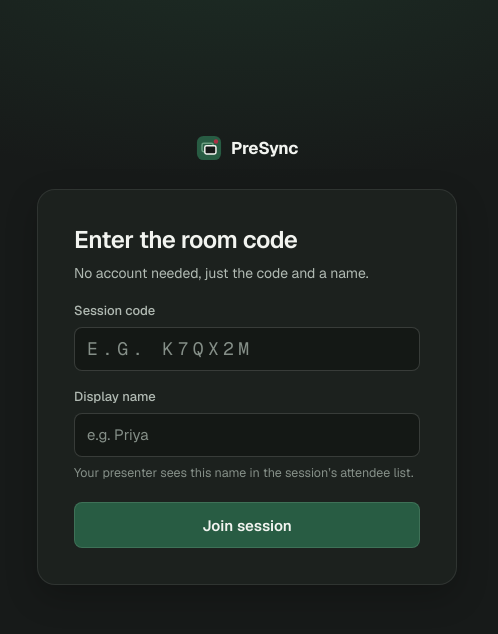
Scenario: ViewerJoinPage › shows the error when the join fails
The width and height of the screenshot is (498, 634).
Type "ABCD" into the field with placeholder "e.g. K7QX2M".
click(247, 349); type("ABCD")  # box [74,327,420,371]
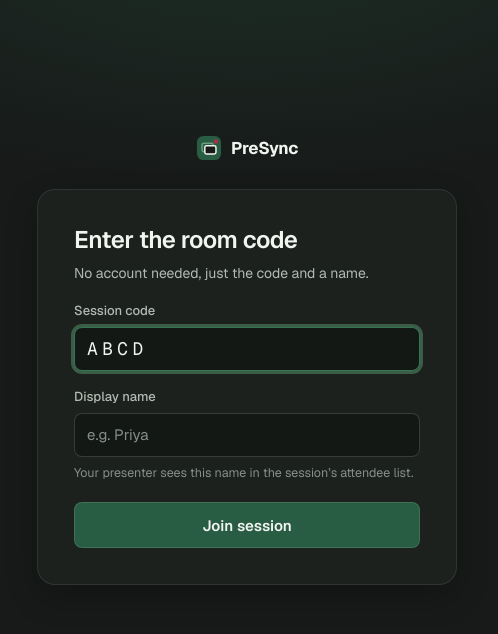
Type "Priya" into the field with placeholder "e.g. Priya".
click(247, 435); type("Priya")  # box [74,413,420,457]
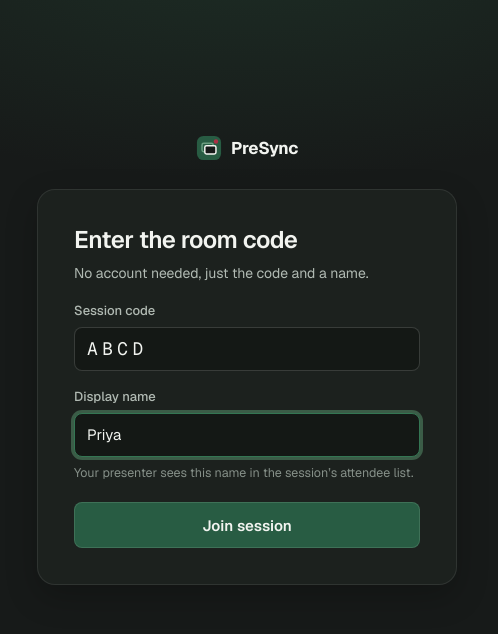
Click the button "Join session".
click(247, 525)  # box [74,502,420,548]
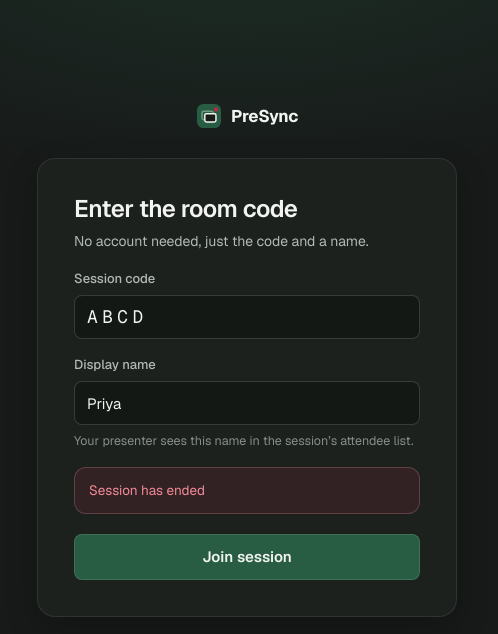
Check: the button "Join session" is enabled, box [74,534,420,580]
Check: the text "Session has ended" is shown, box [74,467,420,514]
